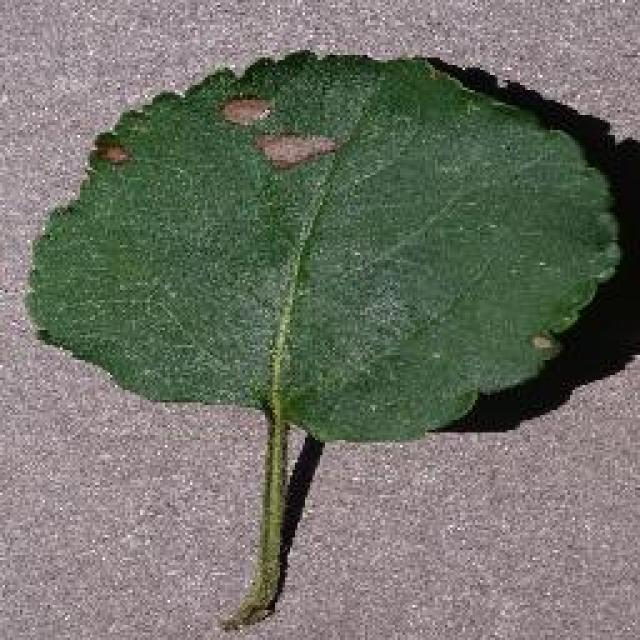Apple___Black_rot: (17, 46, 621, 447)
